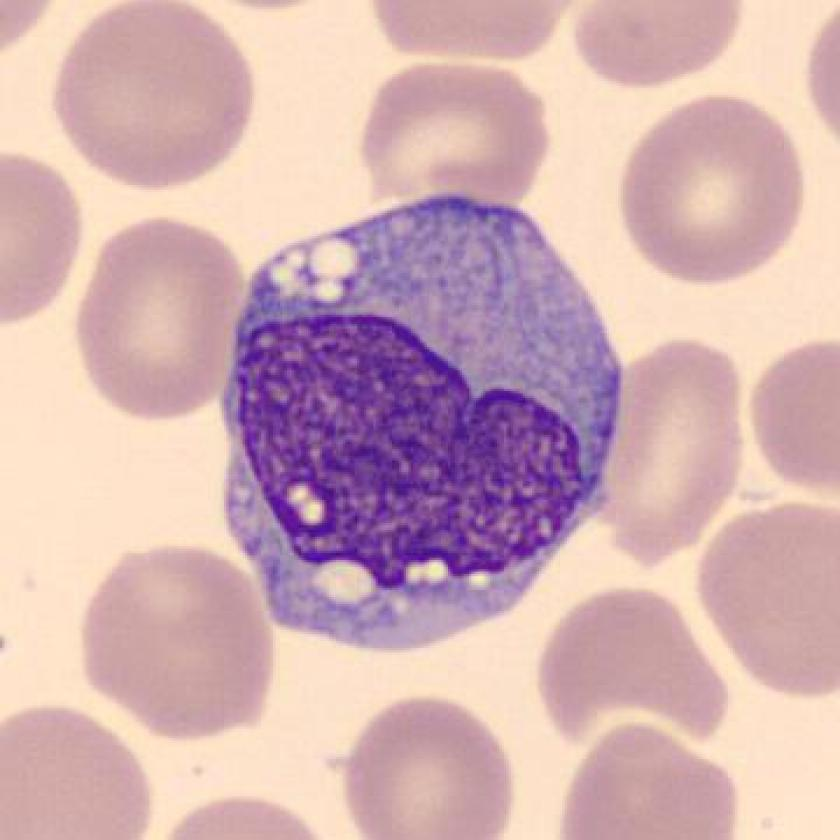monocyte: (209, 177, 645, 663)
